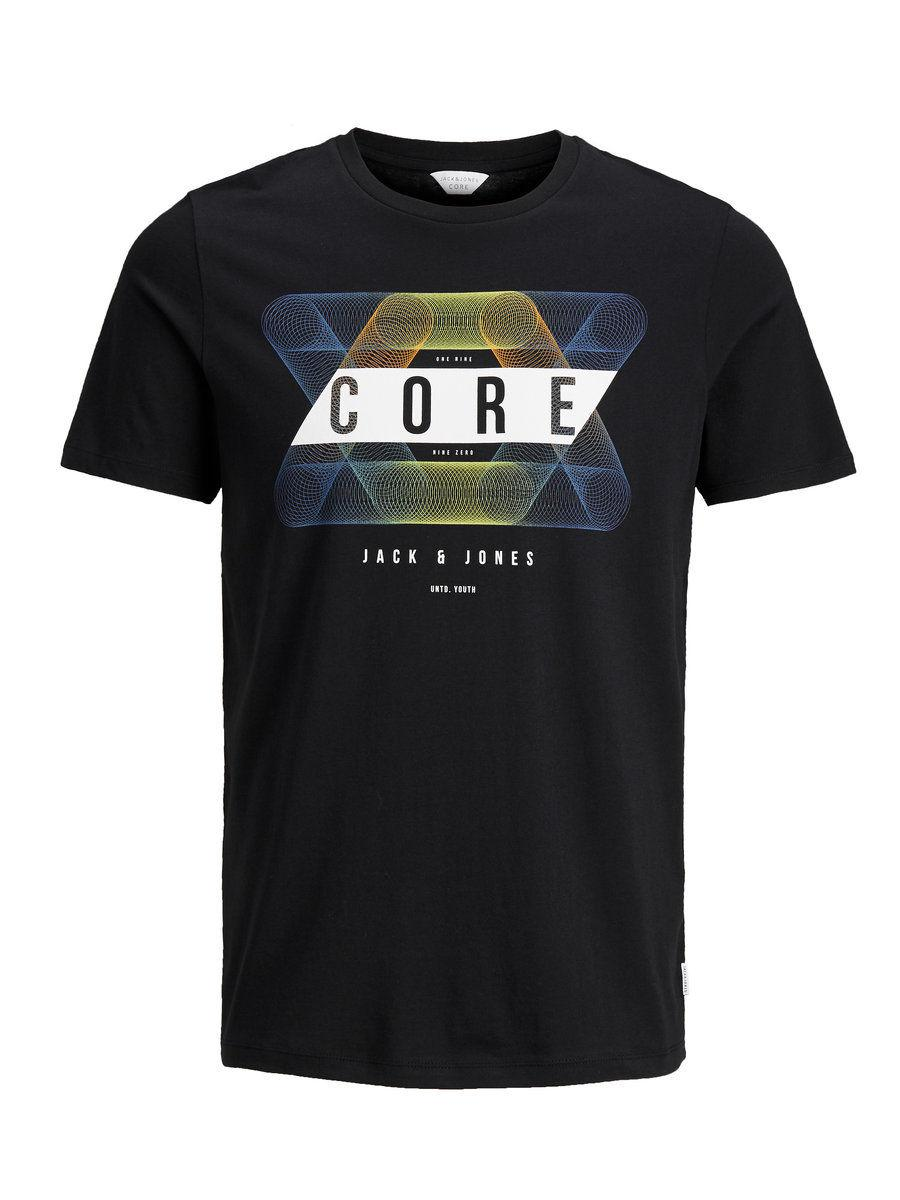teeshirt: (49, 109, 871, 1065)
